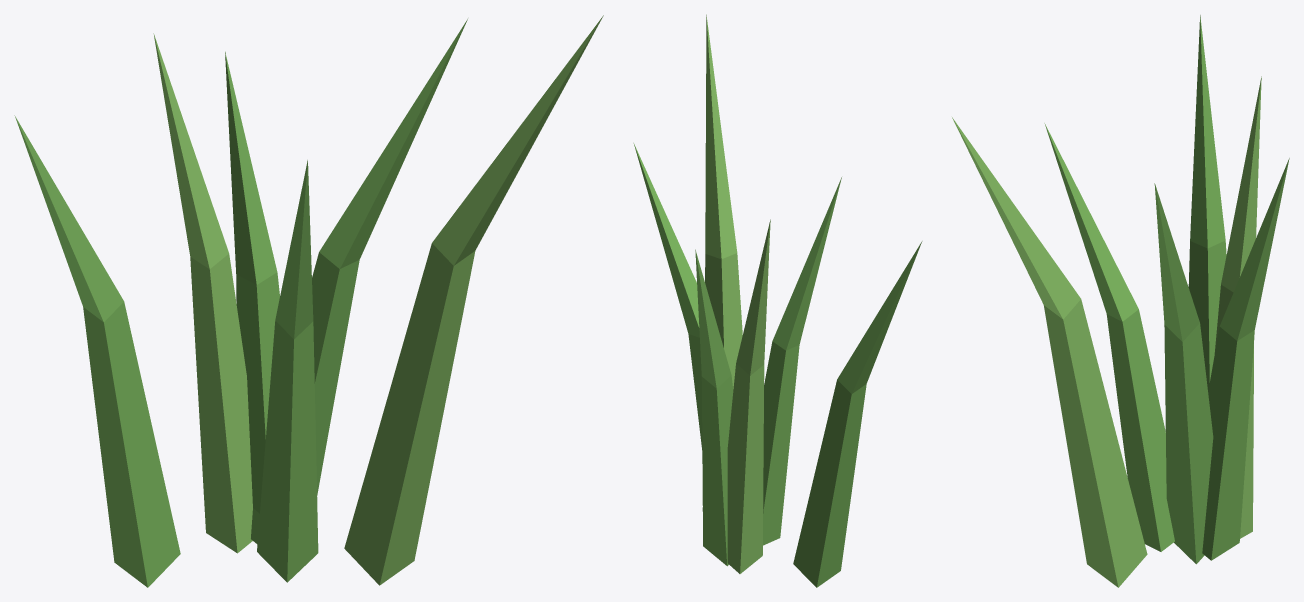
The model's file is grass_tuft_a.glb.
3 views of the same model, side by side, from view 1: azimuth 30°, elevation 25°; view 2: azimuth 150°, elevation 25°; view 3: azimuth 270°, elevation 25° (orthographic). The views are drawn at different scales.
Parts seen in each view (by area): view 1: grass_tuft_a; view 2: grass_tuft_a; view 3: grass_tuft_a.
Boxes of the visible parts, box(x1,y1,x2,y2) form: grass_tuft_a: box(14, 15, 603, 587); grass_tuft_a: box(633, 14, 922, 587); grass_tuft_a: box(952, 15, 1289, 587).
Bounding box in the file's own units: 0.3619 × 0.4649 × 0.2782.
